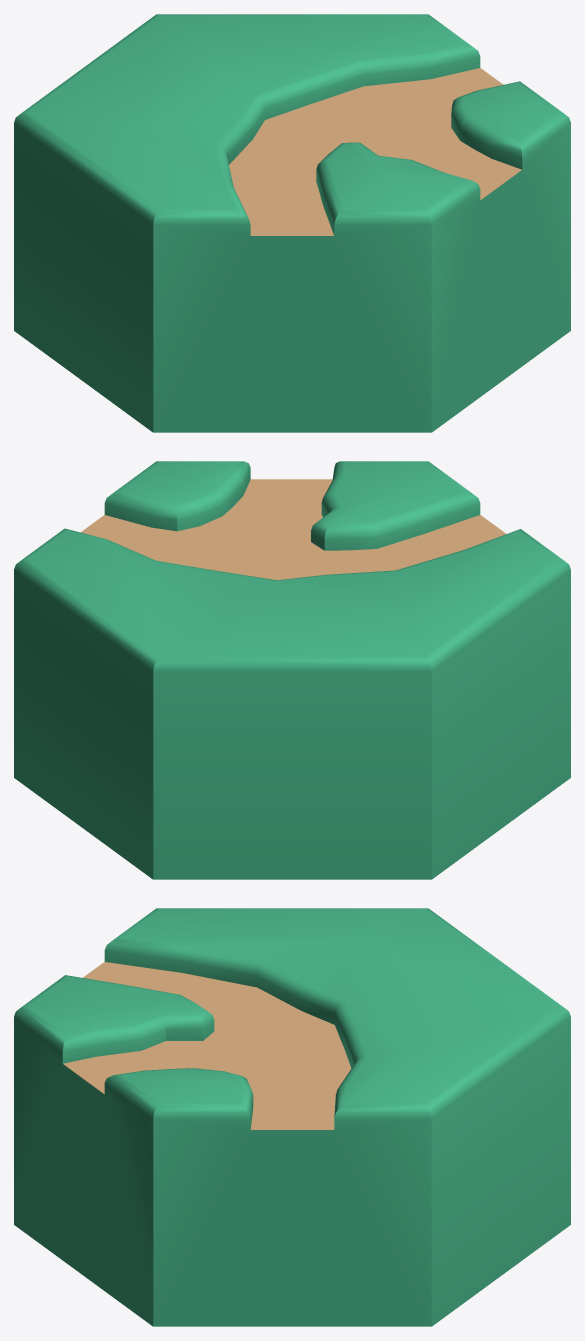
File: hex_forest_roadH.glb
3 views of the same model, one above another, from view 1: azimuth 30°, elevation 25°; view 2: azimuth 150°, elevation 25°; view 3: azimuth 270°, elevation 25° (orthographic).
Parts seen in each view (by area): view 1: hex_forest_roadH; view 2: hex_forest_roadH; view 3: hex_forest_roadH.
Boxes of the visible parts, left/top/right/bottom form: hex_forest_roadH: left=14, top=14, right=570, bottom=432; hex_forest_roadH: left=14, top=461, right=570, bottom=879; hex_forest_roadH: left=14, top=908, right=570, bottom=1326.
Bounding box in the file's own units: 2 × 1 × 2.31.
